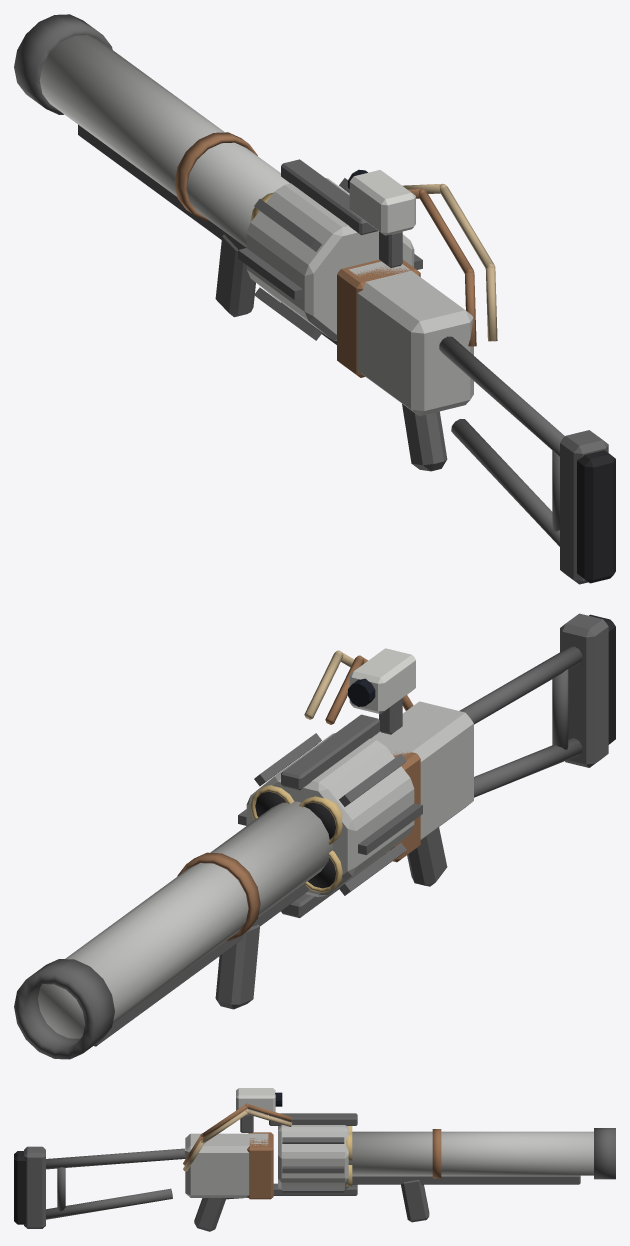
The model's file is launcher.glb.
3 views of the same model, one above another, from view 1: azimuth 30°, elevation 25°; view 2: azimuth 150°, elevation 25°; view 3: azimuth 270°, elevation 25° (orthographic). The views are drawn at different scales.
Parts seen in each view (by area): view 1: body, drum; view 2: body, drum; view 3: body, drum.
Boxes of the visible parts, <box> form: body: <box>14,14,615,584</box>; drum: <box>238,178,422,340</box>; body: <box>14,613,615,1059</box>; drum: <box>238,733,422,897</box>; body: <box>14,1088,615,1231</box>; drum: <box>278,1125,352,1192</box>.
Size of the model in its own units: 0.184 by 0.3467 by 1.36.
